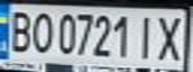0: (54, 9, 75, 56)
1: (109, 11, 133, 60)
2: (90, 11, 115, 58)
7: (72, 10, 93, 56)
B: (3, 7, 36, 53)
I: (133, 11, 160, 61)
O: (27, 9, 57, 55)
X: (151, 11, 190, 62)
